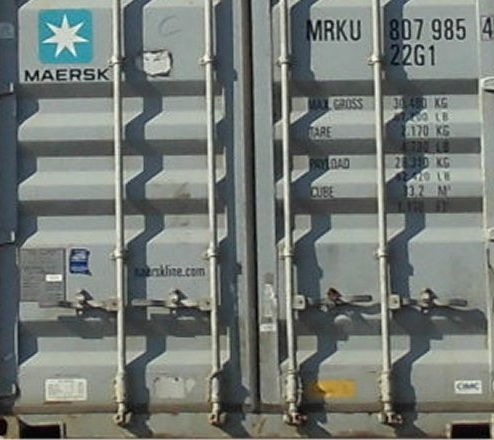container_door: (5, 3, 485, 440)
